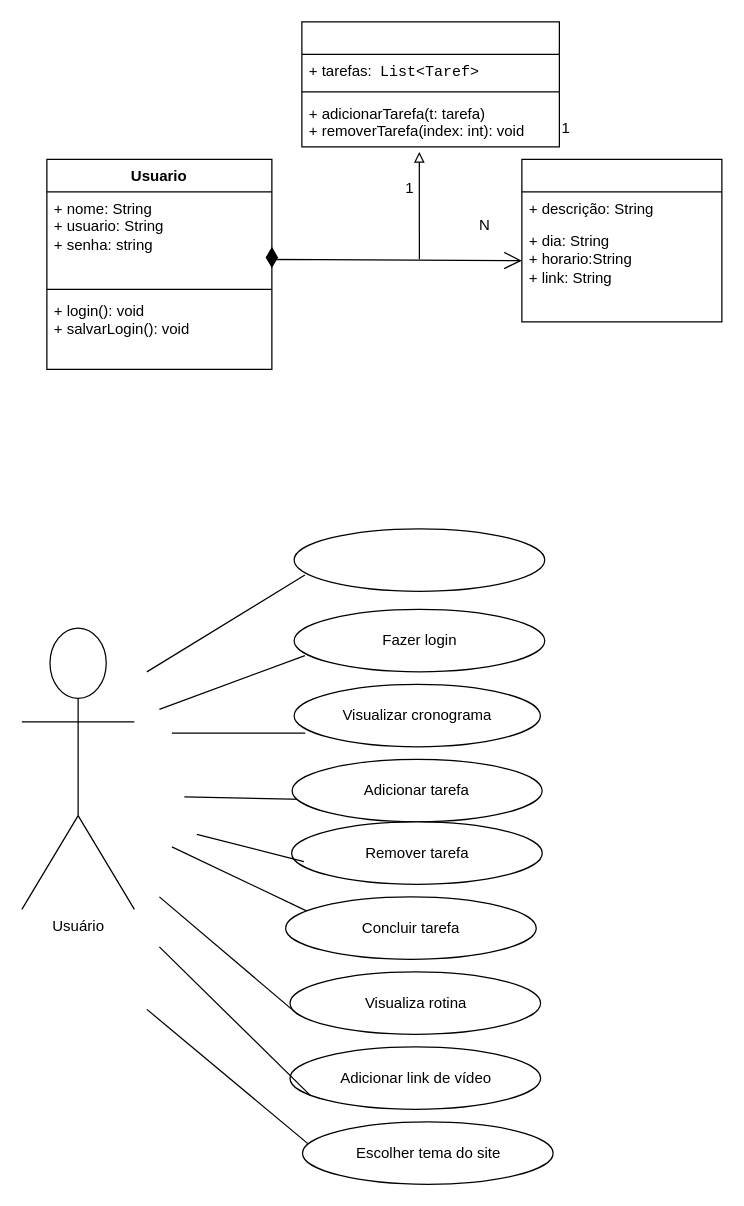
The diagram is 744 pixels wide and 1206 high, and some of its shapes have lost their labels. Here are the shapes that lost their labels. From the top down, the box of each, then its label:
(301, 21, 559, 147): Cronograma
(521, 158, 722, 322): Tarefa
(293, 528, 545, 591): Criar conta
